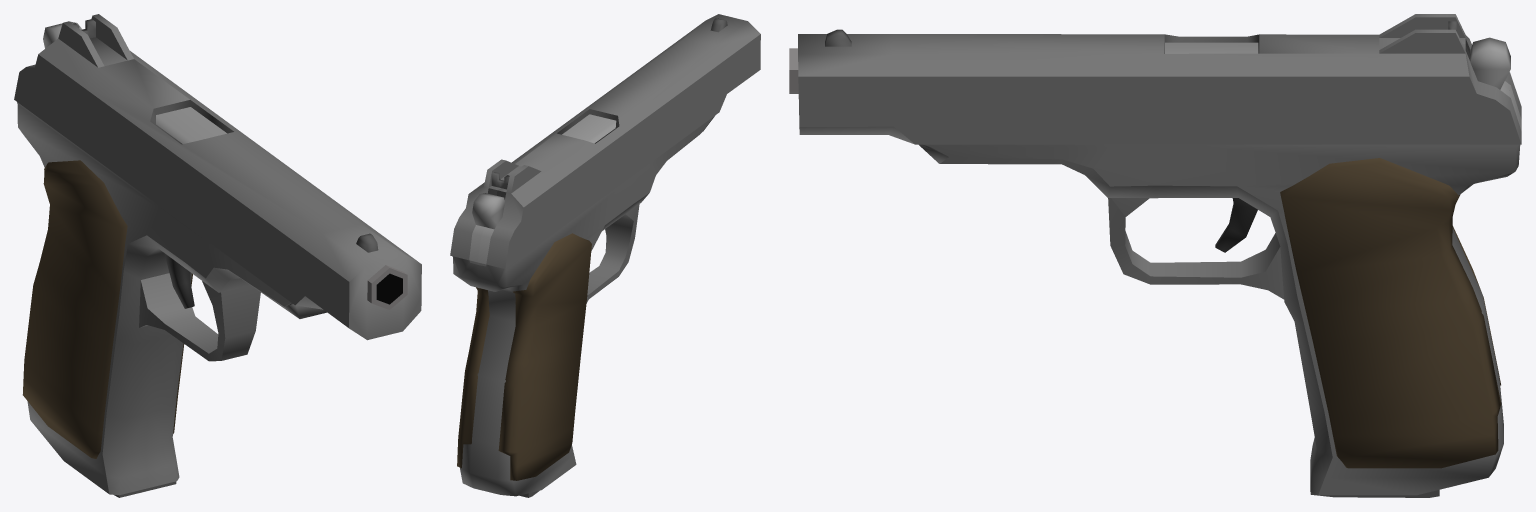
File: Stechkin.fbx
3 views of the same model, side by side, from view 1: azimuth 30°, elevation 25°; view 2: azimuth 150°, elevation 25°; view 3: azimuth 270°, elevation 25° (orthographic). The views are drawn at different scales.
Visible parts, largest first — view 1: Stechkin; view 2: Stechkin; view 3: Stechkin.
Part boxes in pixels (bbox=[...]): Stechkin: bbox=[14, 14, 421, 495]; Stechkin: bbox=[450, 14, 760, 496]; Stechkin: bbox=[789, 14, 1521, 495].
Size of the model in its own units: 4.59 by 23.79 by 34.35.
